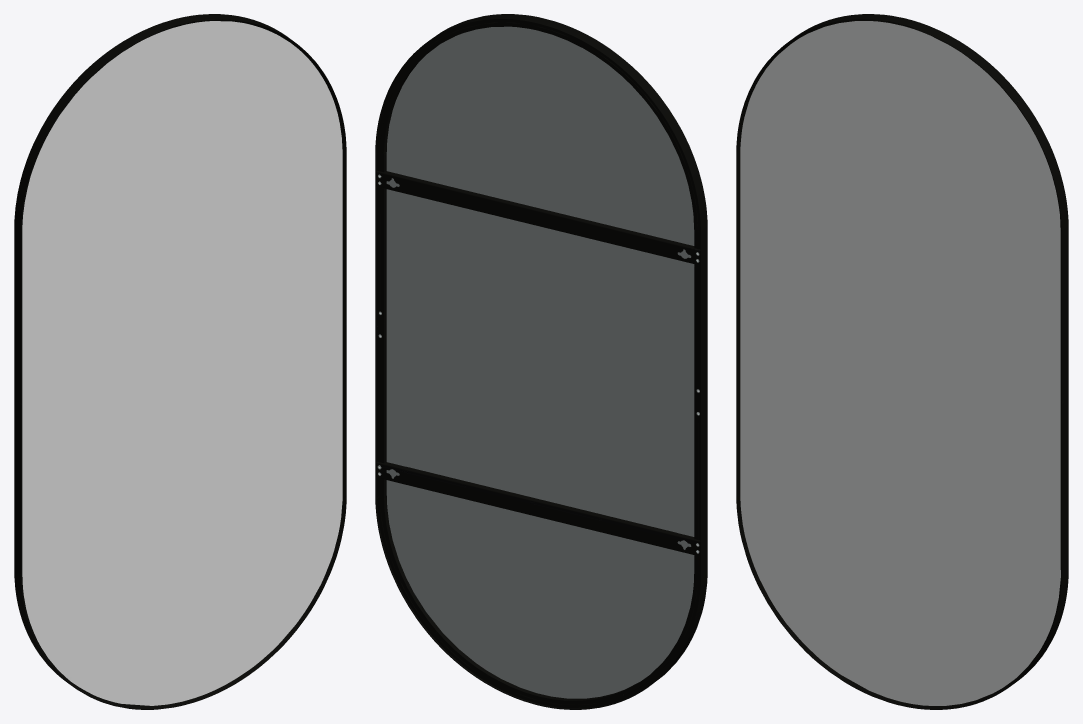
Rendered from lindbyn_lustro_30458610.glb.
3 views of the same model, side by side, from view 1: azimuth 30°, elevation 25°; view 2: azimuth 150°, elevation 25°; view 3: azimuth 330°, elevation 25° (orthographic).
Parts seen in each view (by area): view 1: lindbyn_lustro_30458610; view 2: lindbyn_lustro_30458610; view 3: lindbyn_lustro_30458610.
Part boxes in pixels (<box>): lindbyn_lustro_30458610: <box>14,14,346,709</box>; lindbyn_lustro_30458610: <box>375,14,707,709</box>; lindbyn_lustro_30458610: <box>736,14,1068,709</box>.
Size of the model in its own units: 0.5999 by 1.2 by 0.0219.
Materials: 2 (2 with a texture image).
